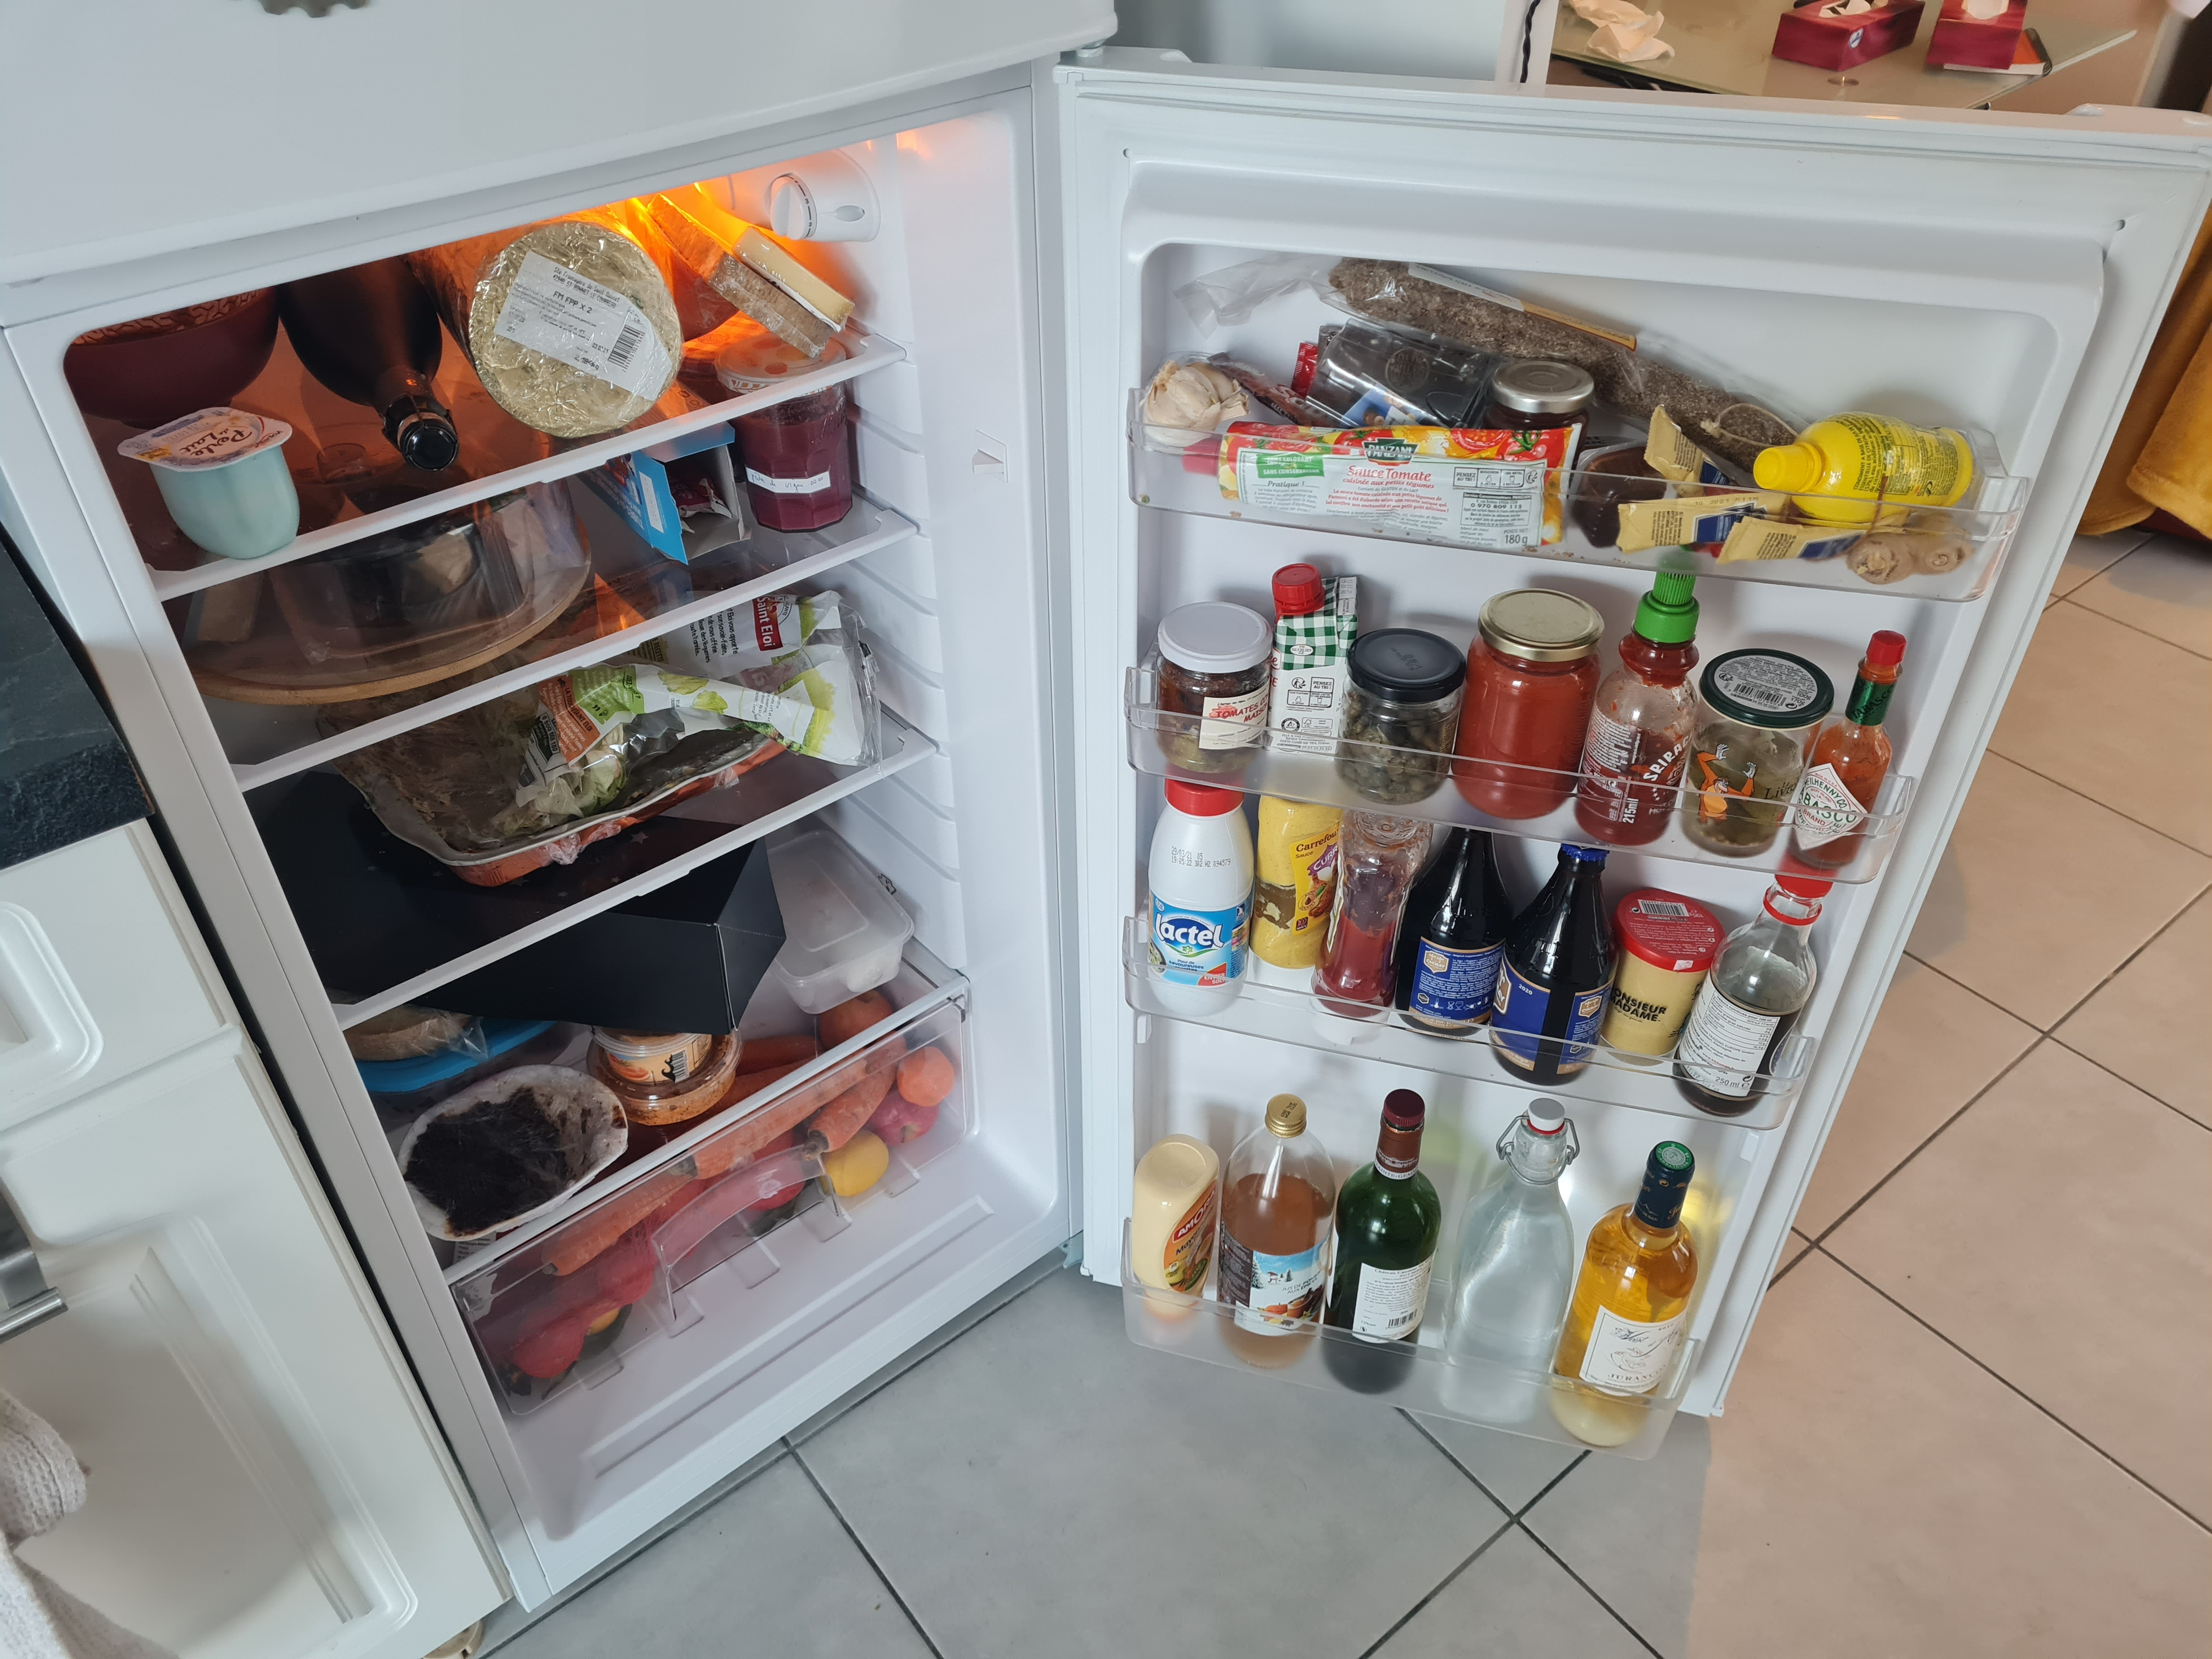apple: (874, 1082, 935, 1148)
beer: (1494, 833, 1620, 1082), (1400, 824, 1514, 1042)
bottle: (1439, 1096, 1578, 1429), (1552, 1140, 1702, 1438), (280, 249, 460, 484), (1322, 1094, 1439, 1387), (1223, 1094, 1341, 1373)
carrot: (685, 1056, 874, 1185), (538, 1161, 700, 1288), (812, 1049, 909, 1155), (700, 1054, 840, 1124)
cheese: (469, 221, 688, 437), (646, 195, 834, 357), (667, 185, 862, 328), (620, 197, 742, 340)
cream: (1266, 563, 1359, 756)
milk: (1144, 779, 1258, 1009)
tomato: (516, 1309, 589, 1384)
yoghurt: (120, 406, 305, 558)
